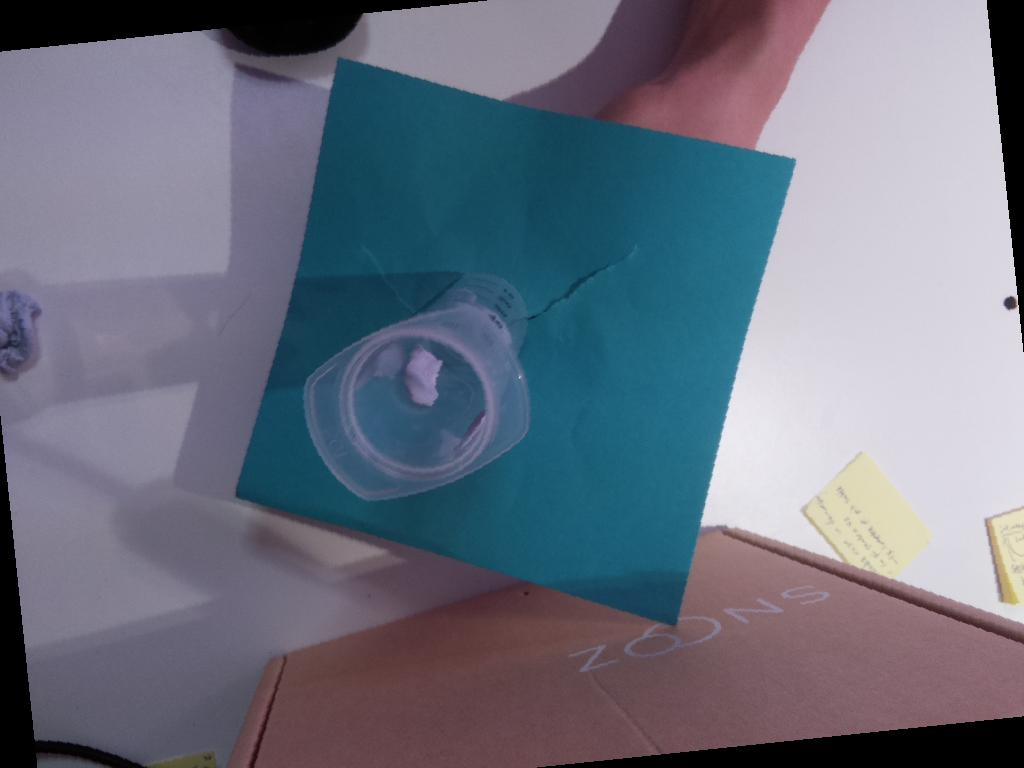dirty: (303, 306, 531, 503)
